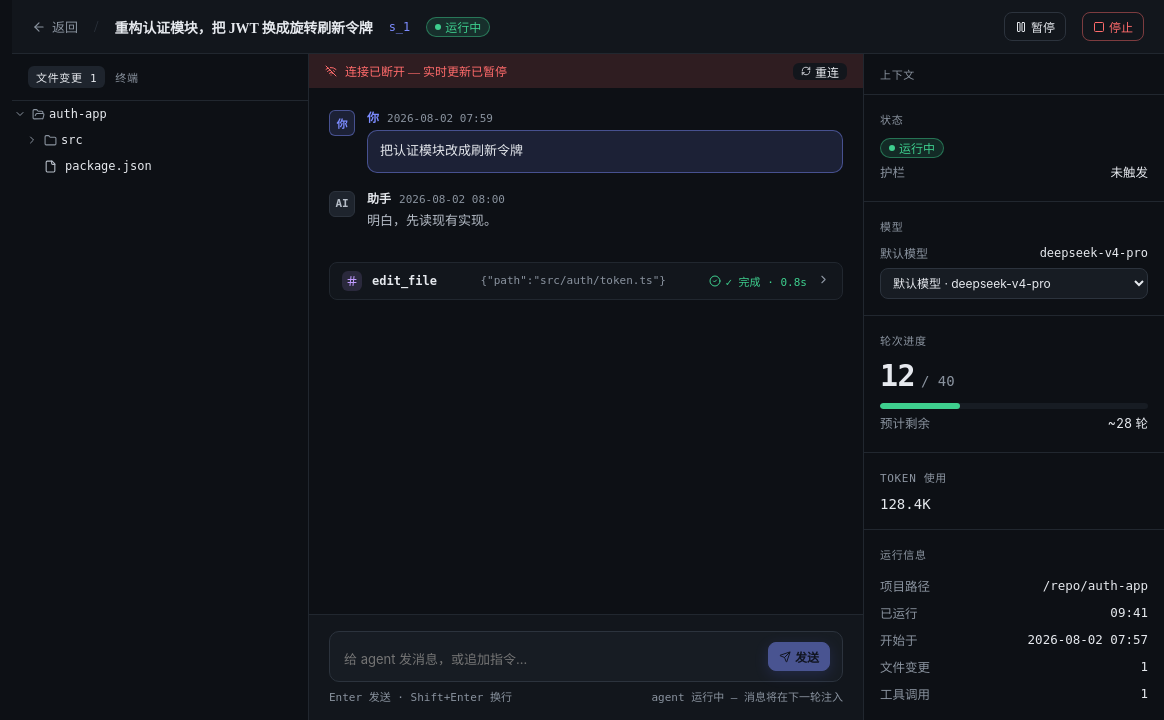
it: SessionDetail › still switches the session model when the global config save fails, with a hint
Check: the text "把认证模块改成刷新令牌" is shown, box [367,130,843,173]
Step 1. Select "deepseek-chat" in the dropdown named "选择模型" → (1014, 284), box [880,268,1148,299]
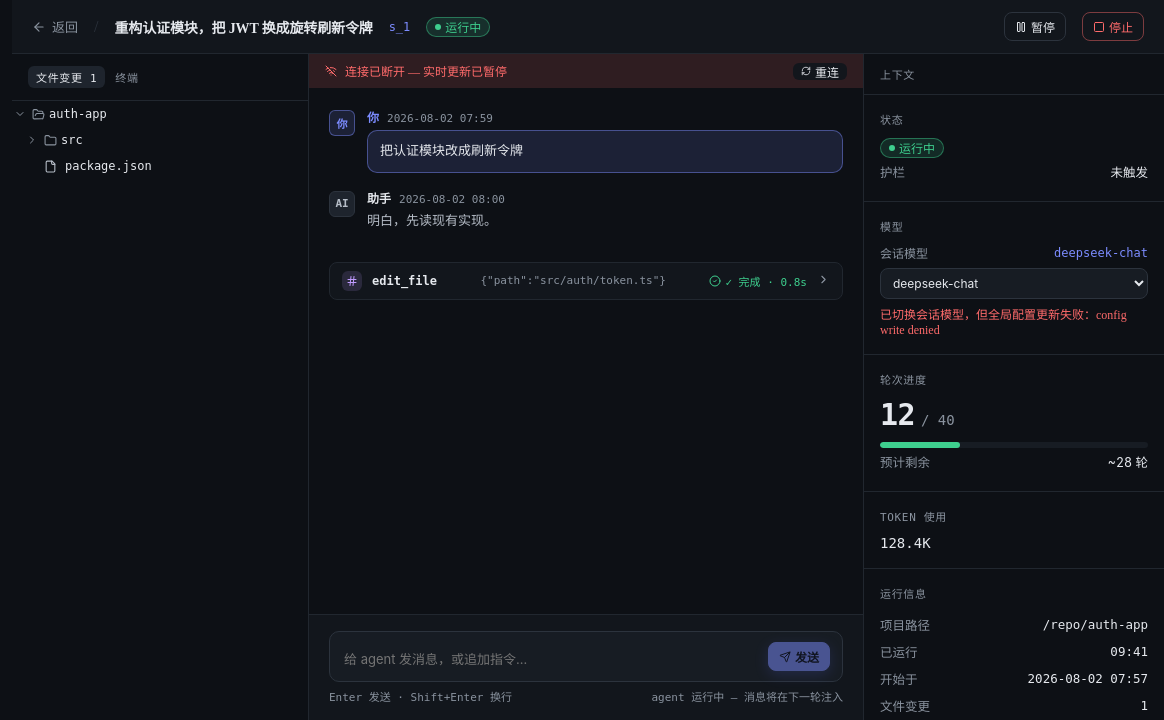
Check: the text "已切换会话模型，但全局配置更新失败：config write denied" is shown, box [880,305,1148,338]
